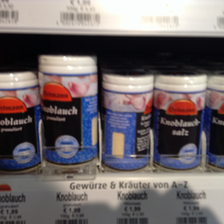spices: (38, 55, 97, 165), (154, 69, 208, 170), (101, 70, 154, 171), (1, 71, 39, 175)
